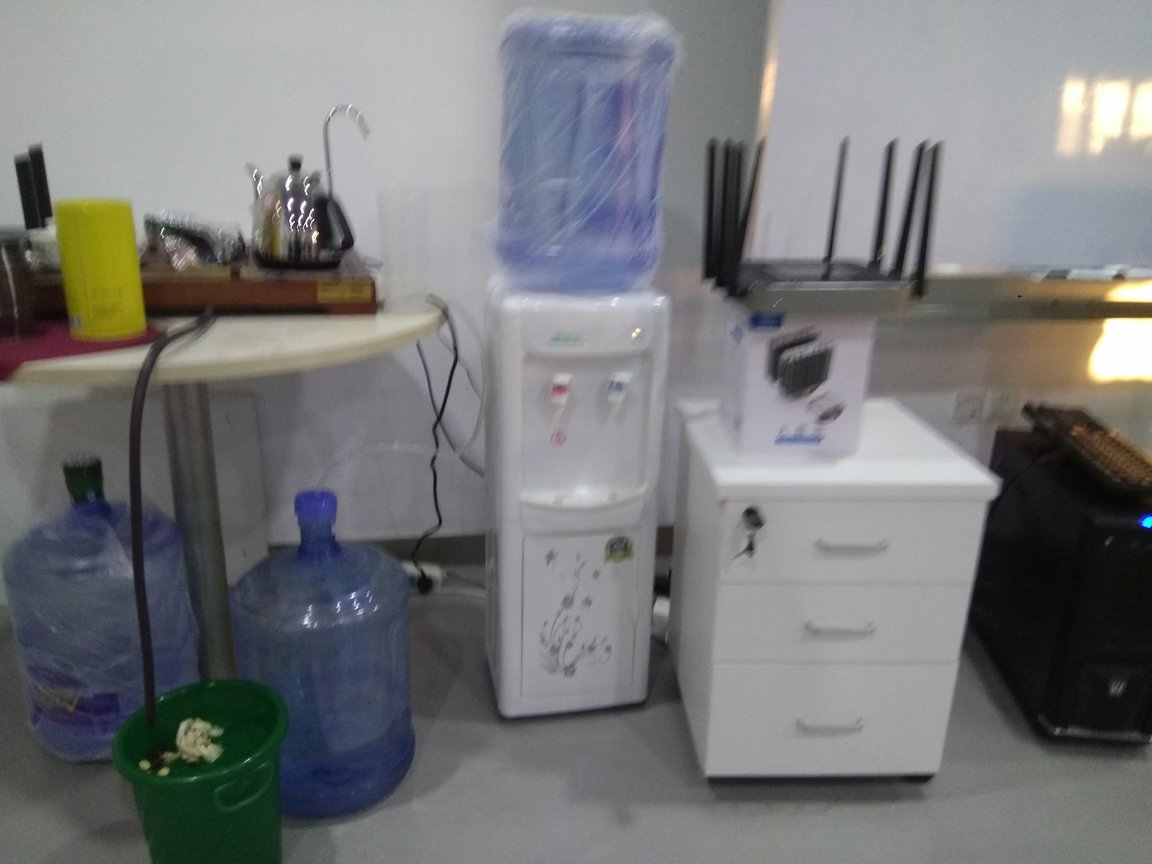computer: (997, 426, 1152, 755)
drawer chest: (674, 391, 982, 802)
scuttlebutt: (217, 486, 421, 820), (5, 447, 207, 766), (499, 3, 663, 289)
water dispenser: (478, 268, 654, 724)
